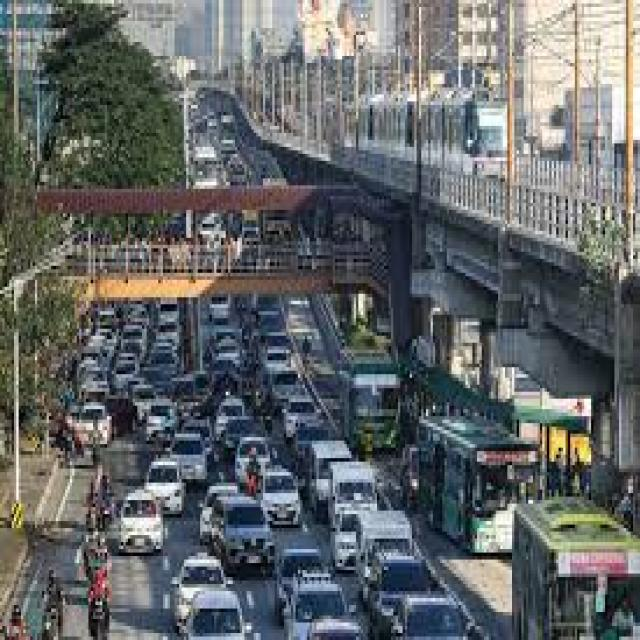bus: (512, 497, 638, 640), (417, 420, 533, 553), (337, 353, 398, 455)
car: (284, 574, 361, 640), (328, 462, 375, 570), (370, 560, 428, 640), (172, 556, 226, 637), (212, 497, 270, 570), (219, 497, 272, 574), (310, 441, 349, 521), (184, 591, 247, 640), (275, 549, 319, 616), (119, 493, 161, 553), (223, 416, 258, 486), (200, 483, 237, 546), (296, 420, 328, 490), (144, 462, 184, 514), (261, 469, 298, 525), (65, 402, 109, 448), (235, 437, 268, 497), (172, 434, 205, 483), (147, 399, 177, 448), (144, 343, 177, 385), (214, 399, 242, 441), (284, 399, 312, 441), (112, 353, 137, 395), (312, 623, 361, 640)
motorcycle: (88, 598, 107, 640), (42, 609, 61, 640)
